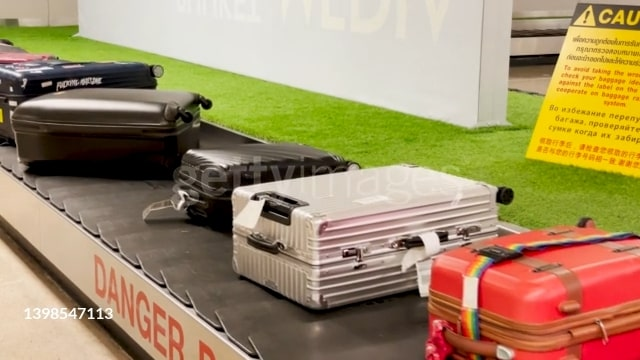baggage: (223, 162, 517, 313), (423, 220, 640, 360), (11, 85, 208, 182), (172, 144, 348, 234), (1, 57, 164, 132)
